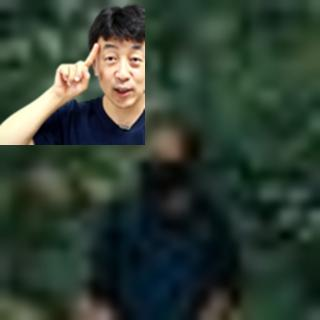IRRITATED: (50, 42, 102, 103)
